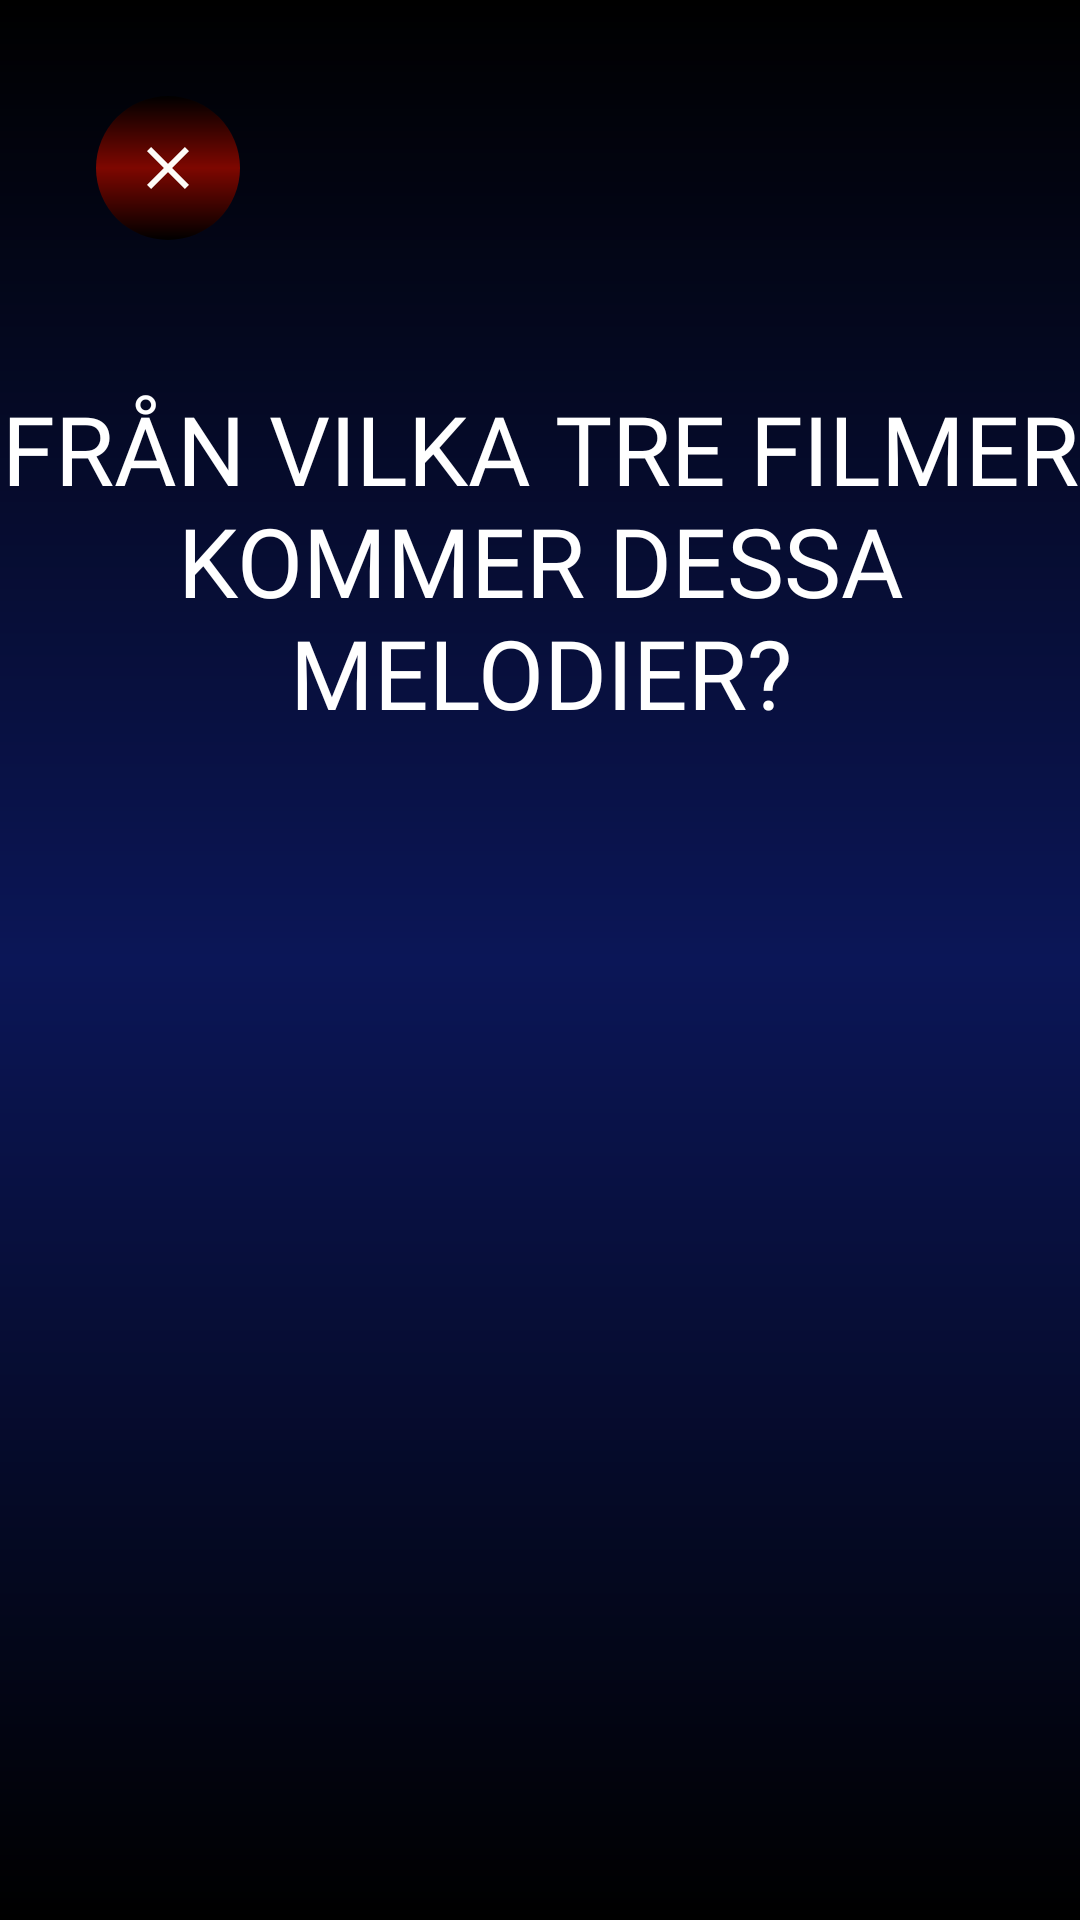

Named icons in this screenshot (1080×1920) and their centers, point (x, y):
close: point (168, 168)
